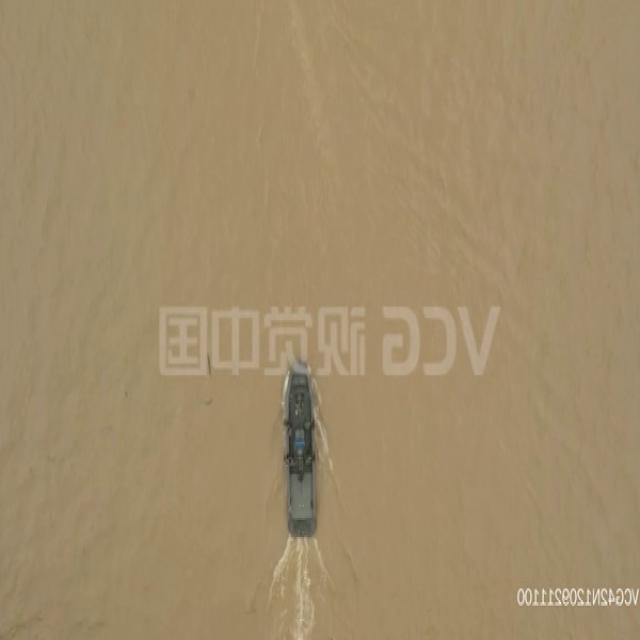houseboat: (283, 355, 318, 539)
